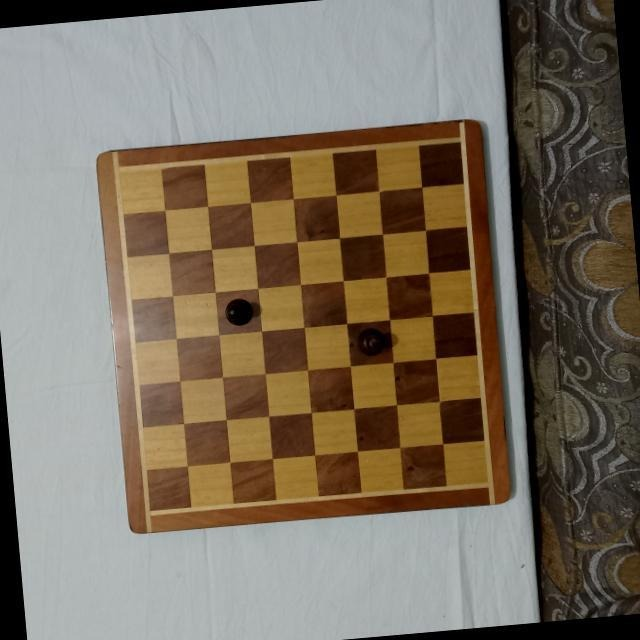black-pawn: (355, 324, 388, 357), (221, 294, 254, 326)
